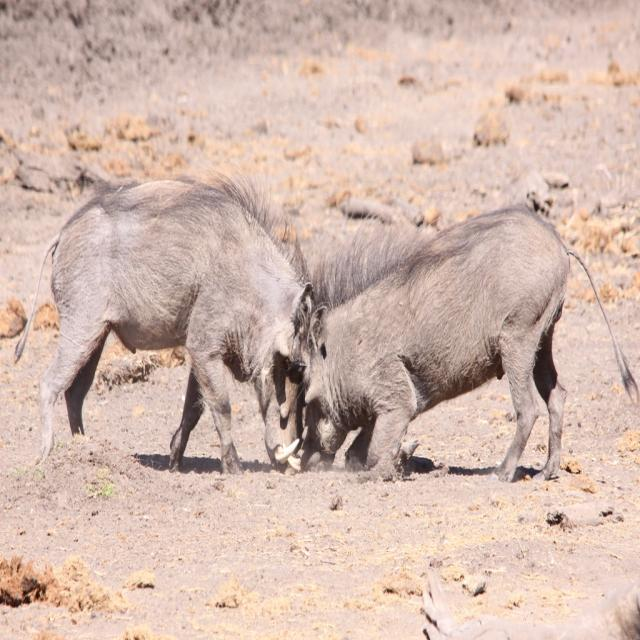Pig: (286, 198, 640, 478), (14, 170, 316, 474)
